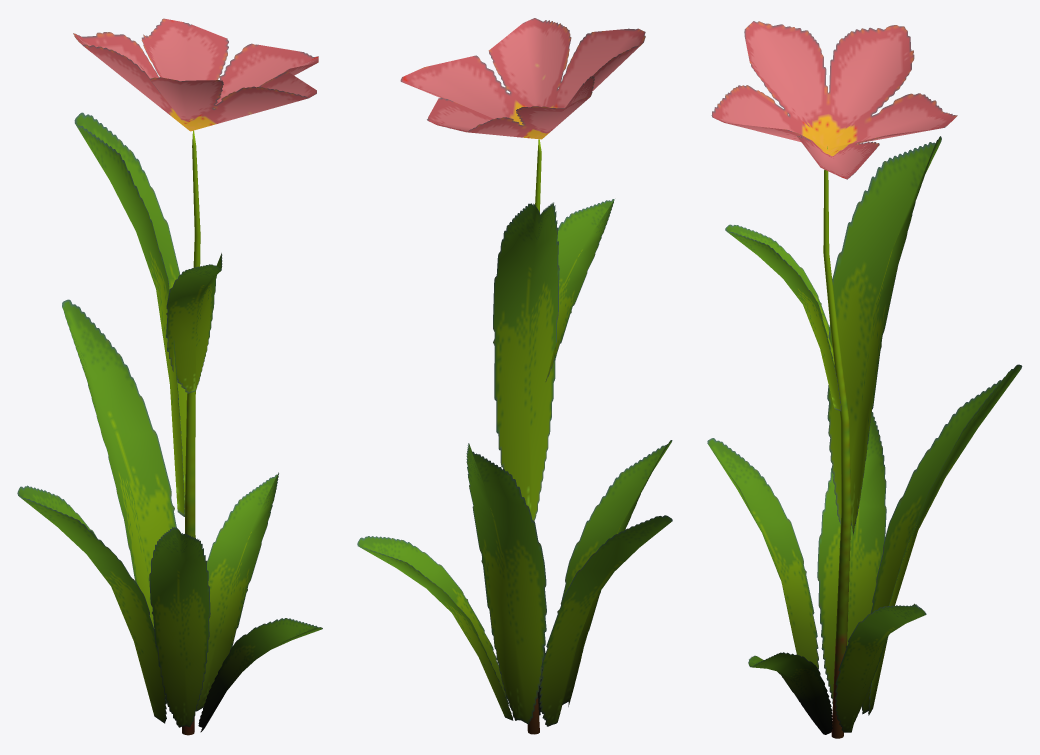
Rendered from Flower_3_Single.glb.
3 renders of one model, left to right at view 1: azimuth 30°, elevation 25°; view 2: azimuth 150°, elevation 25°; view 3: azimuth 270°, elevation 25°, orthographic. The views are drawn at different scales.
Parts seen in each view (by area): view 1: Flower_3_Single; view 2: Flower_3_Single; view 3: Flower_3_Single.
Part boxes in pixels (x1,y1,x2,y2): Flower_3_Single: (17, 18, 322, 735); Flower_3_Single: (357, 18, 672, 734); Flower_3_Single: (707, 21, 1022, 738).
Size of the model in its own units: 0.9067 by 2.07 by 0.8774.
2 materials, 2 textured.
